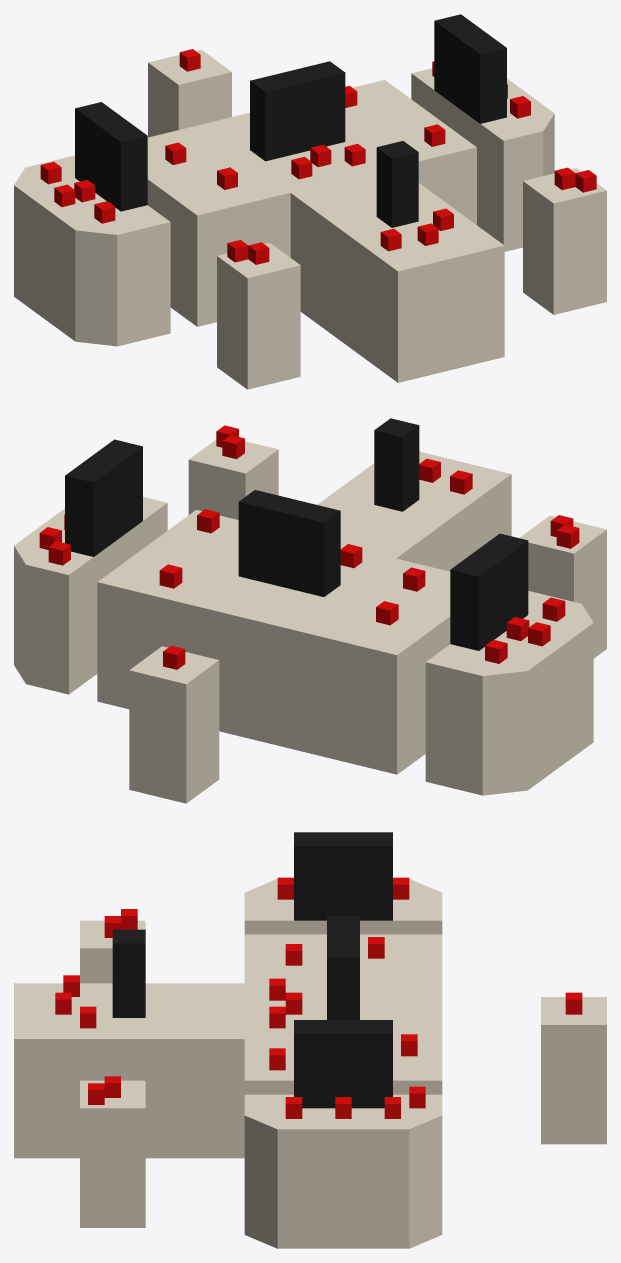
Rendered from Room9.fbx.
The picture shows the model from 3 angles, top to bottom: view 1: azimuth 30°, elevation 25°; view 2: azimuth 150°, elevation 25°; view 3: azimuth 270°, elevation 25°; orthographic projection. The views are drawn at different scales.
Visible parts, largest first — view 1: Box001, Box002, Box006, Box008, Box007, Box003, Box005, Obstacle002, Obstacle003, Obstacle004, Box009, Obstacle001 (+1 smaller); view 2: Box002, Box006, Box001, Box009, Box003, Box005, Obstacle002, Obstacle004, Obstacle003, Box008, Box007, Obstacle001 (+1 smaller); view 3: Box001, Box004, Box002, Box009, Box007, Obstacle004, Obstacle003, Box005, Obstacle002, Obstacle001, Box003, Box008.
Part boxes in pixels (x1,y1,x2,y2): Box001: [290, 172, 504, 382]; Box002: [147, 80, 476, 326]; Box006: [14, 167, 117, 346]; Box008: [217, 243, 300, 389]; Box007: [523, 168, 606, 314]; Box003: [411, 68, 543, 251]; Box005: [25, 155, 170, 346]; Obstacle002: [250, 61, 345, 161]; Obstacle003: [434, 14, 506, 123]; Obstacle004: [75, 102, 147, 211]; Box009: [148, 49, 231, 137]; Obstacle001: [376, 141, 418, 227]; Box002: [97, 510, 450, 774]; Box006: [482, 604, 593, 795]; Box001: [317, 451, 511, 571]; Box009: [129, 646, 219, 803]; Box003: [26, 497, 167, 694]; Box005: [425, 591, 581, 795]; Obstacle002: [238, 490, 340, 596]; Obstacle004: [450, 533, 528, 650]; Obstacle003: [65, 439, 142, 556]; Box008: [519, 515, 606, 658]; Box007: [188, 439, 278, 519]; Obstacle001: [374, 418, 419, 511]; Box001: [14, 983, 244, 1158]; Box004: [244, 1115, 442, 1248]; Box002: [244, 934, 442, 1094]; Box009: [541, 997, 606, 1144]; Box007: [80, 1080, 145, 1227]; Obstacle004: [294, 832, 392, 920]; Obstacle003: [294, 1020, 392, 1108]; Box005: [244, 892, 442, 934]; Obstacle002: [327, 915, 359, 1019]; Obstacle001: [112, 929, 145, 1017]; Box003: [244, 1094, 442, 1115]; Box008: [80, 920, 145, 983].
Size of the model in its own units: 54.72 by 19.75 by 54.72.
